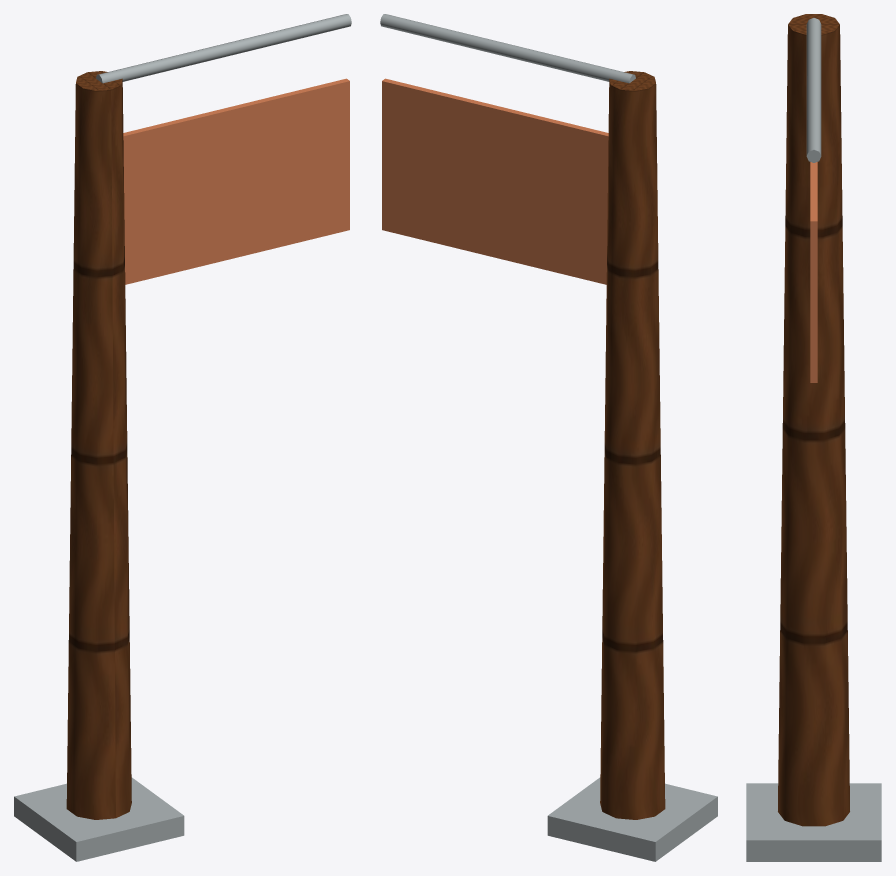
Rendered from prehistoric-survivor-settlement-ceremonial-signal-post-c8dd1418__23221.glb.
3 renders of one model, left to right at view 1: azimuth 30°, elevation 25°; view 2: azimuth 150°, elevation 25°; view 3: azimuth 270°, elevation 25°, orthographic. The views are drawn at different scales.
Visible parts, largest first — view 1: ceremonial-signal-post; view 2: ceremonial-signal-post; view 3: ceremonial-signal-post.
Boxes of the visible parts, x1,y1,x2,y2 form: ceremonial-signal-post: (14,14,351,861); ceremonial-signal-post: (380,14,717,861); ceremonial-signal-post: (746,14,881,861).
Size of the model in its own units: 1.28 by 3.03 by 0.4549.
3 materials, 1 textured.
